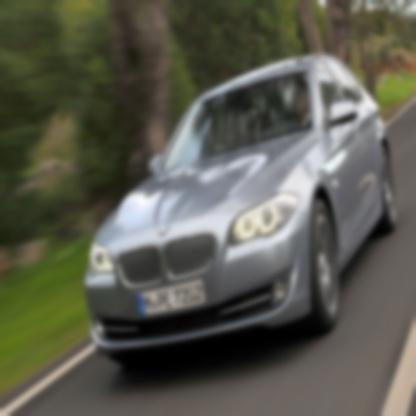Vehicle: (83, 48, 400, 370)
